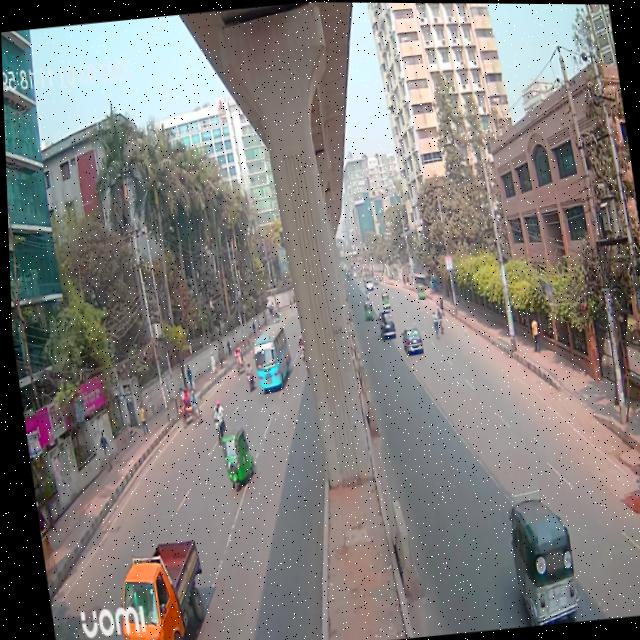cng: (496, 480, 583, 626), (210, 414, 254, 502), (357, 293, 373, 324), (410, 276, 425, 306), (377, 285, 390, 310)
rikshaw: (169, 382, 190, 427)
